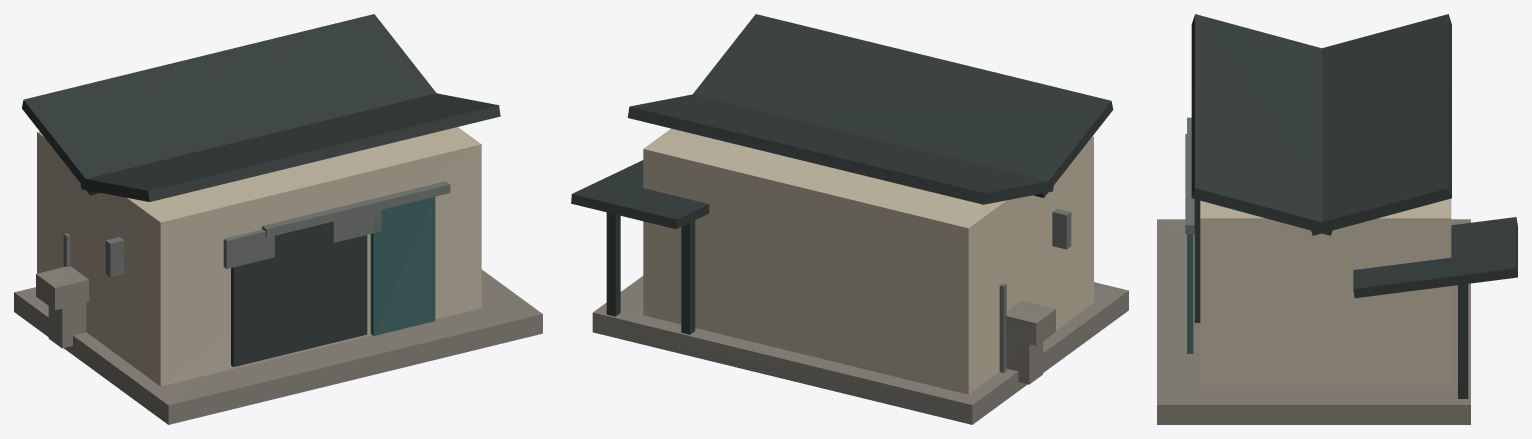
File: Washhouse.glb
The picture shows the model from 3 angles, left to right: view 1: azimuth 30°, elevation 25°; view 2: azimuth 150°, elevation 25°; view 3: azimuth 270°, elevation 25°; orthographic projection.
Visible parts, largest first — view 1: washhouse-static-washhouse-charcoal-frame, washhouse-static-washhouse-cream-board-walls, washhouse-static-washhouse-pale-concrete, washhouse-static-washhouse-muted-teal-slider, washhouse-static-washhouse-utility-steel; view 2: washhouse-static-washhouse-cream-board-walls, washhouse-static-washhouse-charcoal-frame, washhouse-static-washhouse-pale-concrete, washhouse-static-washhouse-utility-steel; view 3: washhouse-static-washhouse-charcoal-frame, washhouse-static-washhouse-cream-board-walls, washhouse-static-washhouse-pale-concrete, washhouse-static-washhouse-utility-steel, washhouse-static-washhouse-muted-teal-slider.
Part boxes in pixels (box(x1,y1,x2,y2)): washhouse-static-washhouse-charcoal-frame: box(22, 14, 500, 367); washhouse-static-washhouse-cream-board-walls: box(37, 127, 481, 386); washhouse-static-washhouse-pale-concrete: box(14, 266, 542, 424); washhouse-static-washhouse-muted-teal-slider: box(370, 196, 435, 335); washhouse-static-washhouse-utility-steel: box(63, 181, 450, 277); washhouse-static-washhouse-cream-board-walls: box(643, 128, 1093, 394); washhouse-static-washhouse-charcoal-frame: box(571, 14, 1113, 334); washhouse-static-washhouse-pale-concrete: box(592, 276, 1128, 424); washhouse-static-washhouse-utility-steel: box(999, 208, 1071, 372); washhouse-static-washhouse-charcoal-frame: box(1191, 14, 1517, 398); washhouse-static-washhouse-cream-board-walls: box(1200, 198, 1451, 385); washhouse-static-washhouse-pale-concrete: box(1157, 219, 1470, 424); washhouse-static-washhouse-utility-steel: box(1185, 117, 1194, 233); washhouse-static-washhouse-muted-teal-slider: box(1187, 234, 1193, 353).
Size of the model in its own units: 5.91 by 3.16 by 4.6.
